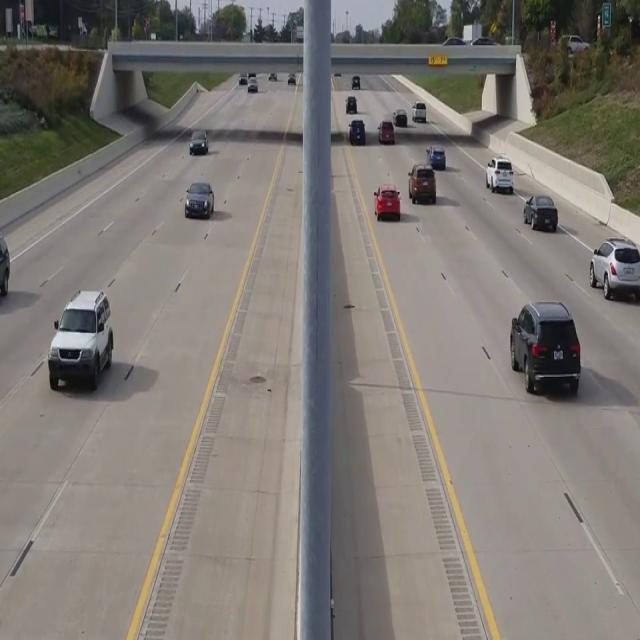car: (509, 300, 582, 396), (48, 288, 114, 391), (588, 238, 640, 302), (523, 193, 558, 231), (407, 163, 436, 204), (184, 181, 214, 218), (485, 156, 514, 192), (373, 184, 400, 220), (189, 129, 208, 155), (348, 117, 364, 145), (377, 120, 394, 143)
